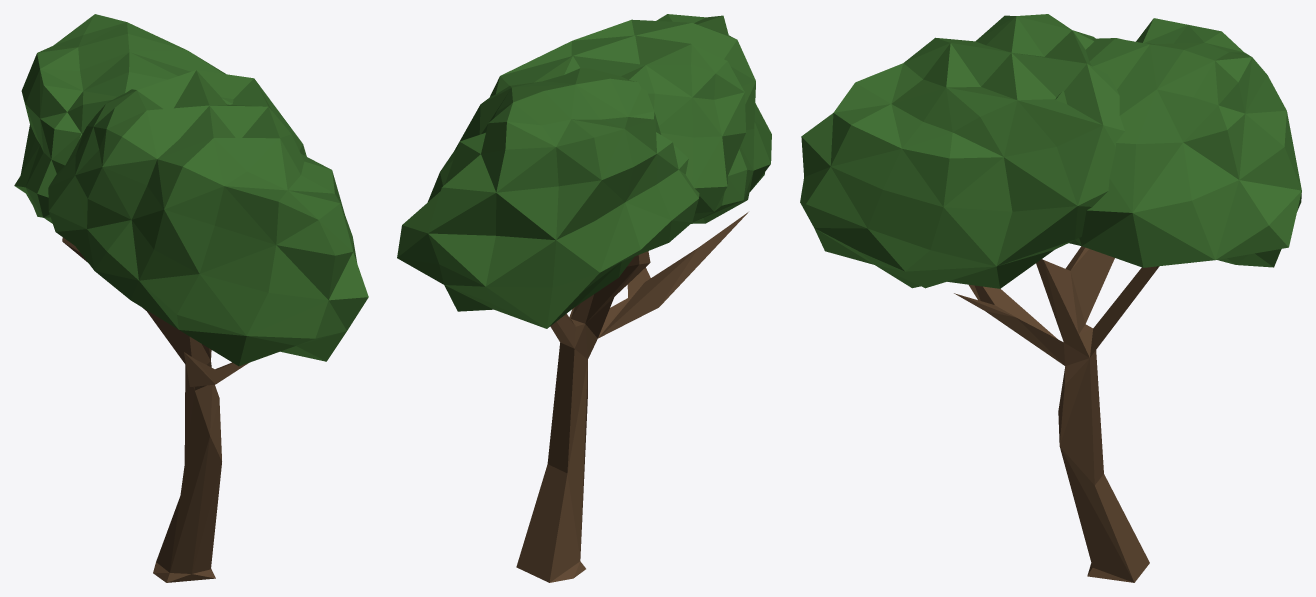
File: tree_3.glb
The picture shows the model from 3 angles, left to right: view 1: azimuth 30°, elevation 25°; view 2: azimuth 150°, elevation 25°; view 3: azimuth 270°, elevation 25°; orthographic projection. The views are drawn at different scales.
Parts seen in each view (by area): view 1: lod0; view 2: lod0; view 3: lod0.
Boxes of the visible parts, x1=… form: lod0: x1=14, y1=14, x2=368, y2=582; lod0: x1=397, y1=14, x2=771, y2=582; lod0: x1=800, y1=14, x2=1301, y2=582.
Size of what is drawn, in the model's own units: 3.47 by 6.78 by 6.05.
